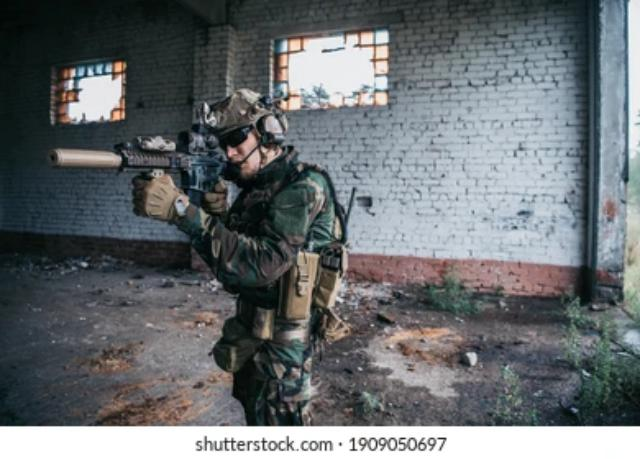other: (186, 86, 347, 419)
